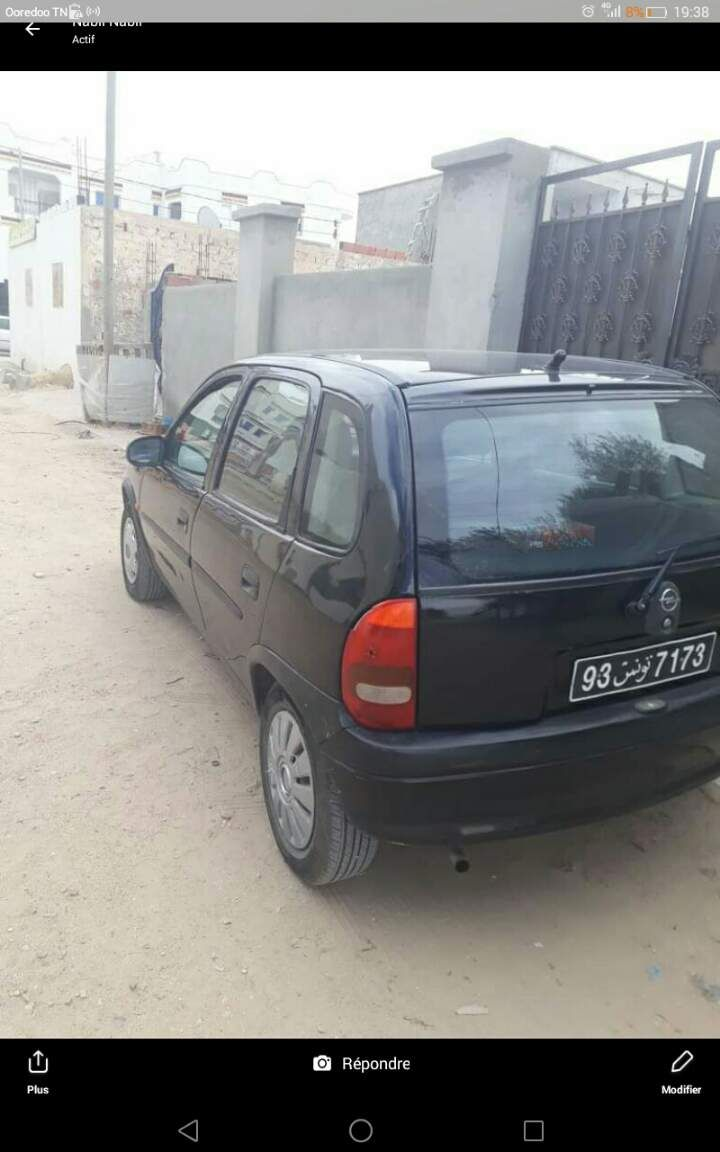LP: (567, 632, 717, 703)
